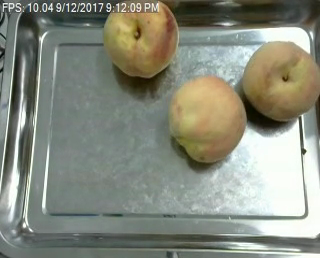Peach: (168, 73, 246, 162), (241, 40, 319, 122), (102, 1, 180, 78)
